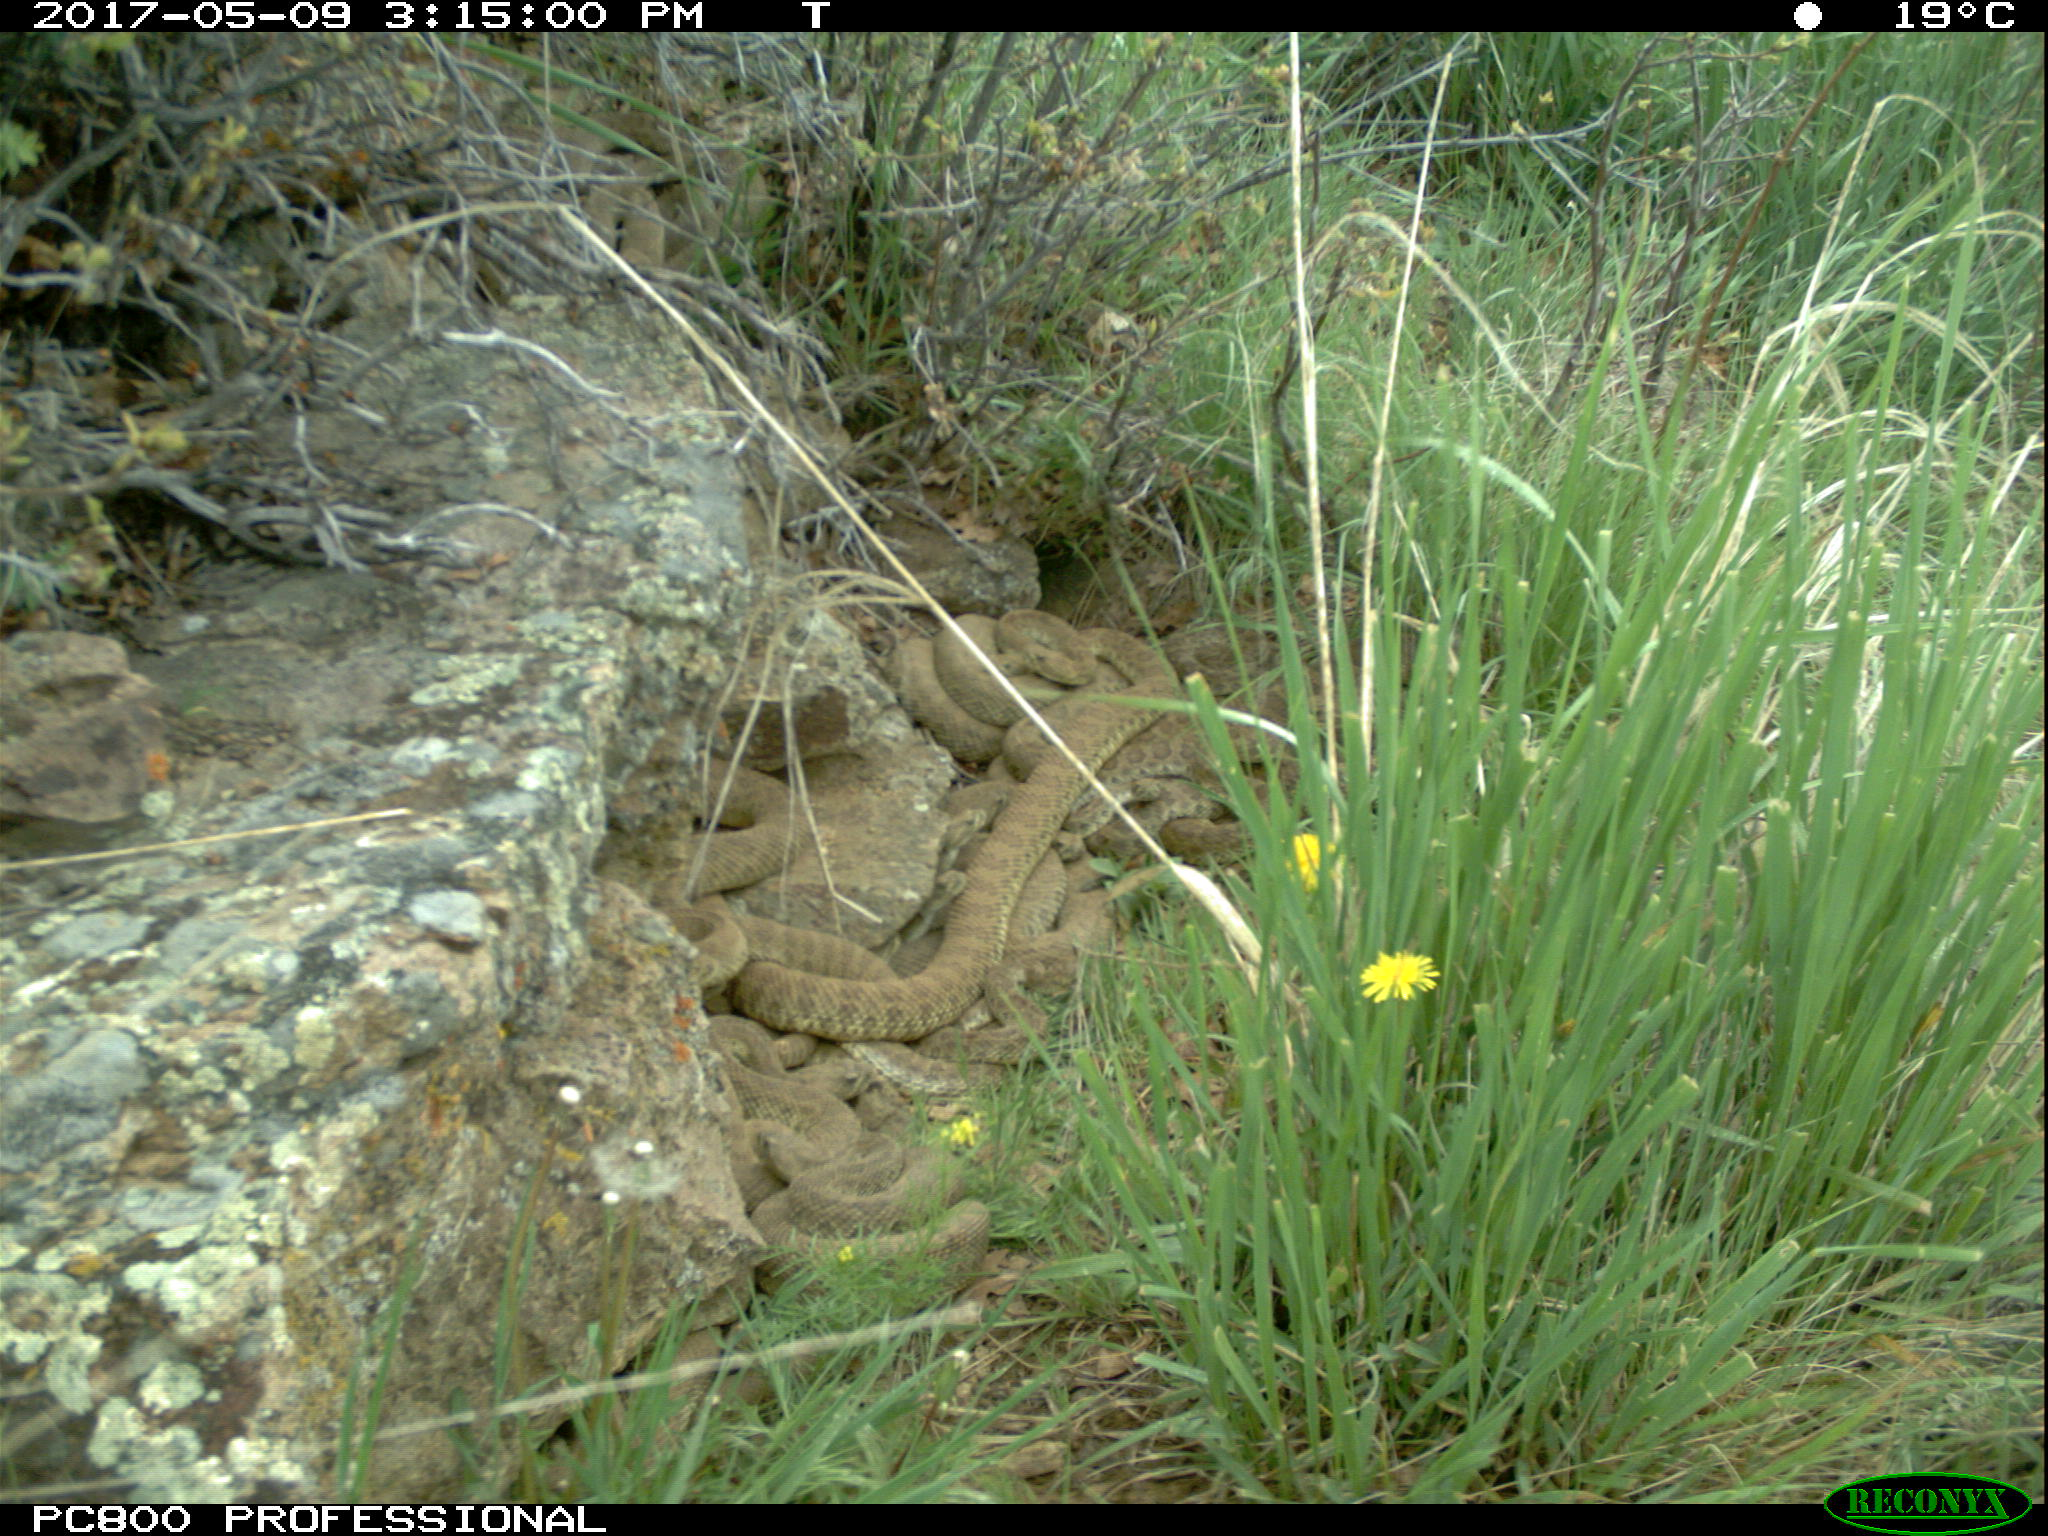snake: (726, 1062, 989, 1279), (903, 611, 1180, 749), (677, 749, 819, 995), (731, 925, 1014, 1039), (943, 758, 1080, 928), (572, 163, 672, 261)
